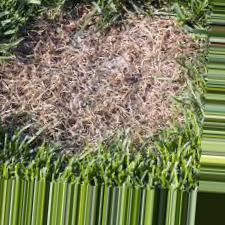patch: (20, 18, 183, 145)
